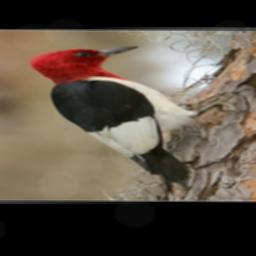Woodpecker: (20, 43, 254, 192)
